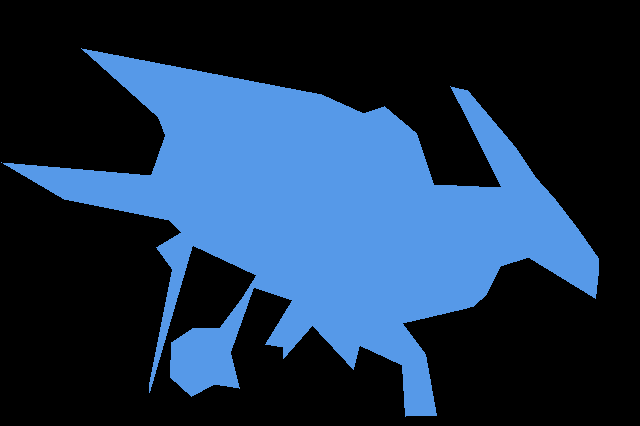Airplane: (1, 48, 598, 416)
